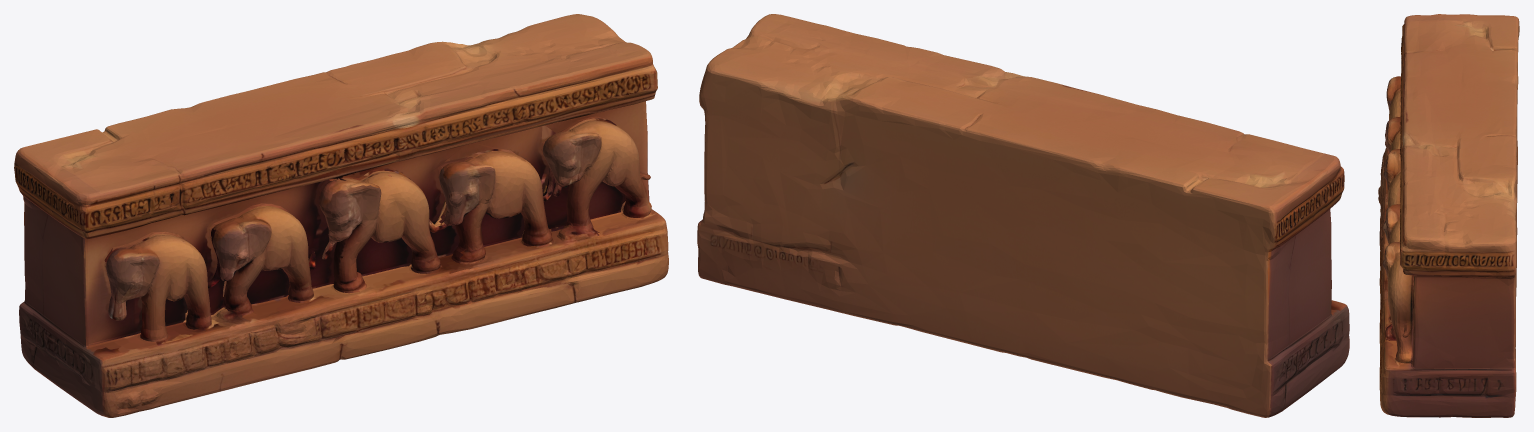
The model's file is elephant-frieze-stone-optimized.glb.
3 renders of one model, left to right at view 1: azimuth 30°, elevation 25°; view 2: azimuth 150°, elevation 25°; view 3: azimuth 270°, elevation 25°, orthographic. The views are drawn at different scales.
Visible parts, largest first — view 1: 069451fd-09bb-4499-99fd-a9404c7e9685_texturing.obj; view 2: 069451fd-09bb-4499-99fd-a9404c7e9685_texturing.obj; view 3: 069451fd-09bb-4499-99fd-a9404c7e9685_texturing.obj.
Boxes of the visible parts, x1=… form: 069451fd-09bb-4499-99fd-a9404c7e9685_texturing.obj: x1=14, y1=14, x2=668, y2=417; 069451fd-09bb-4499-99fd-a9404c7e9685_texturing.obj: x1=697, y1=14, x2=1349, y2=417; 069451fd-09bb-4499-99fd-a9404c7e9685_texturing.obj: x1=1378, y1=14, x2=1519, y2=417.
Size of the model in its own units: 3 by 1.1 by 0.7732.
1 material, 1 textured.
